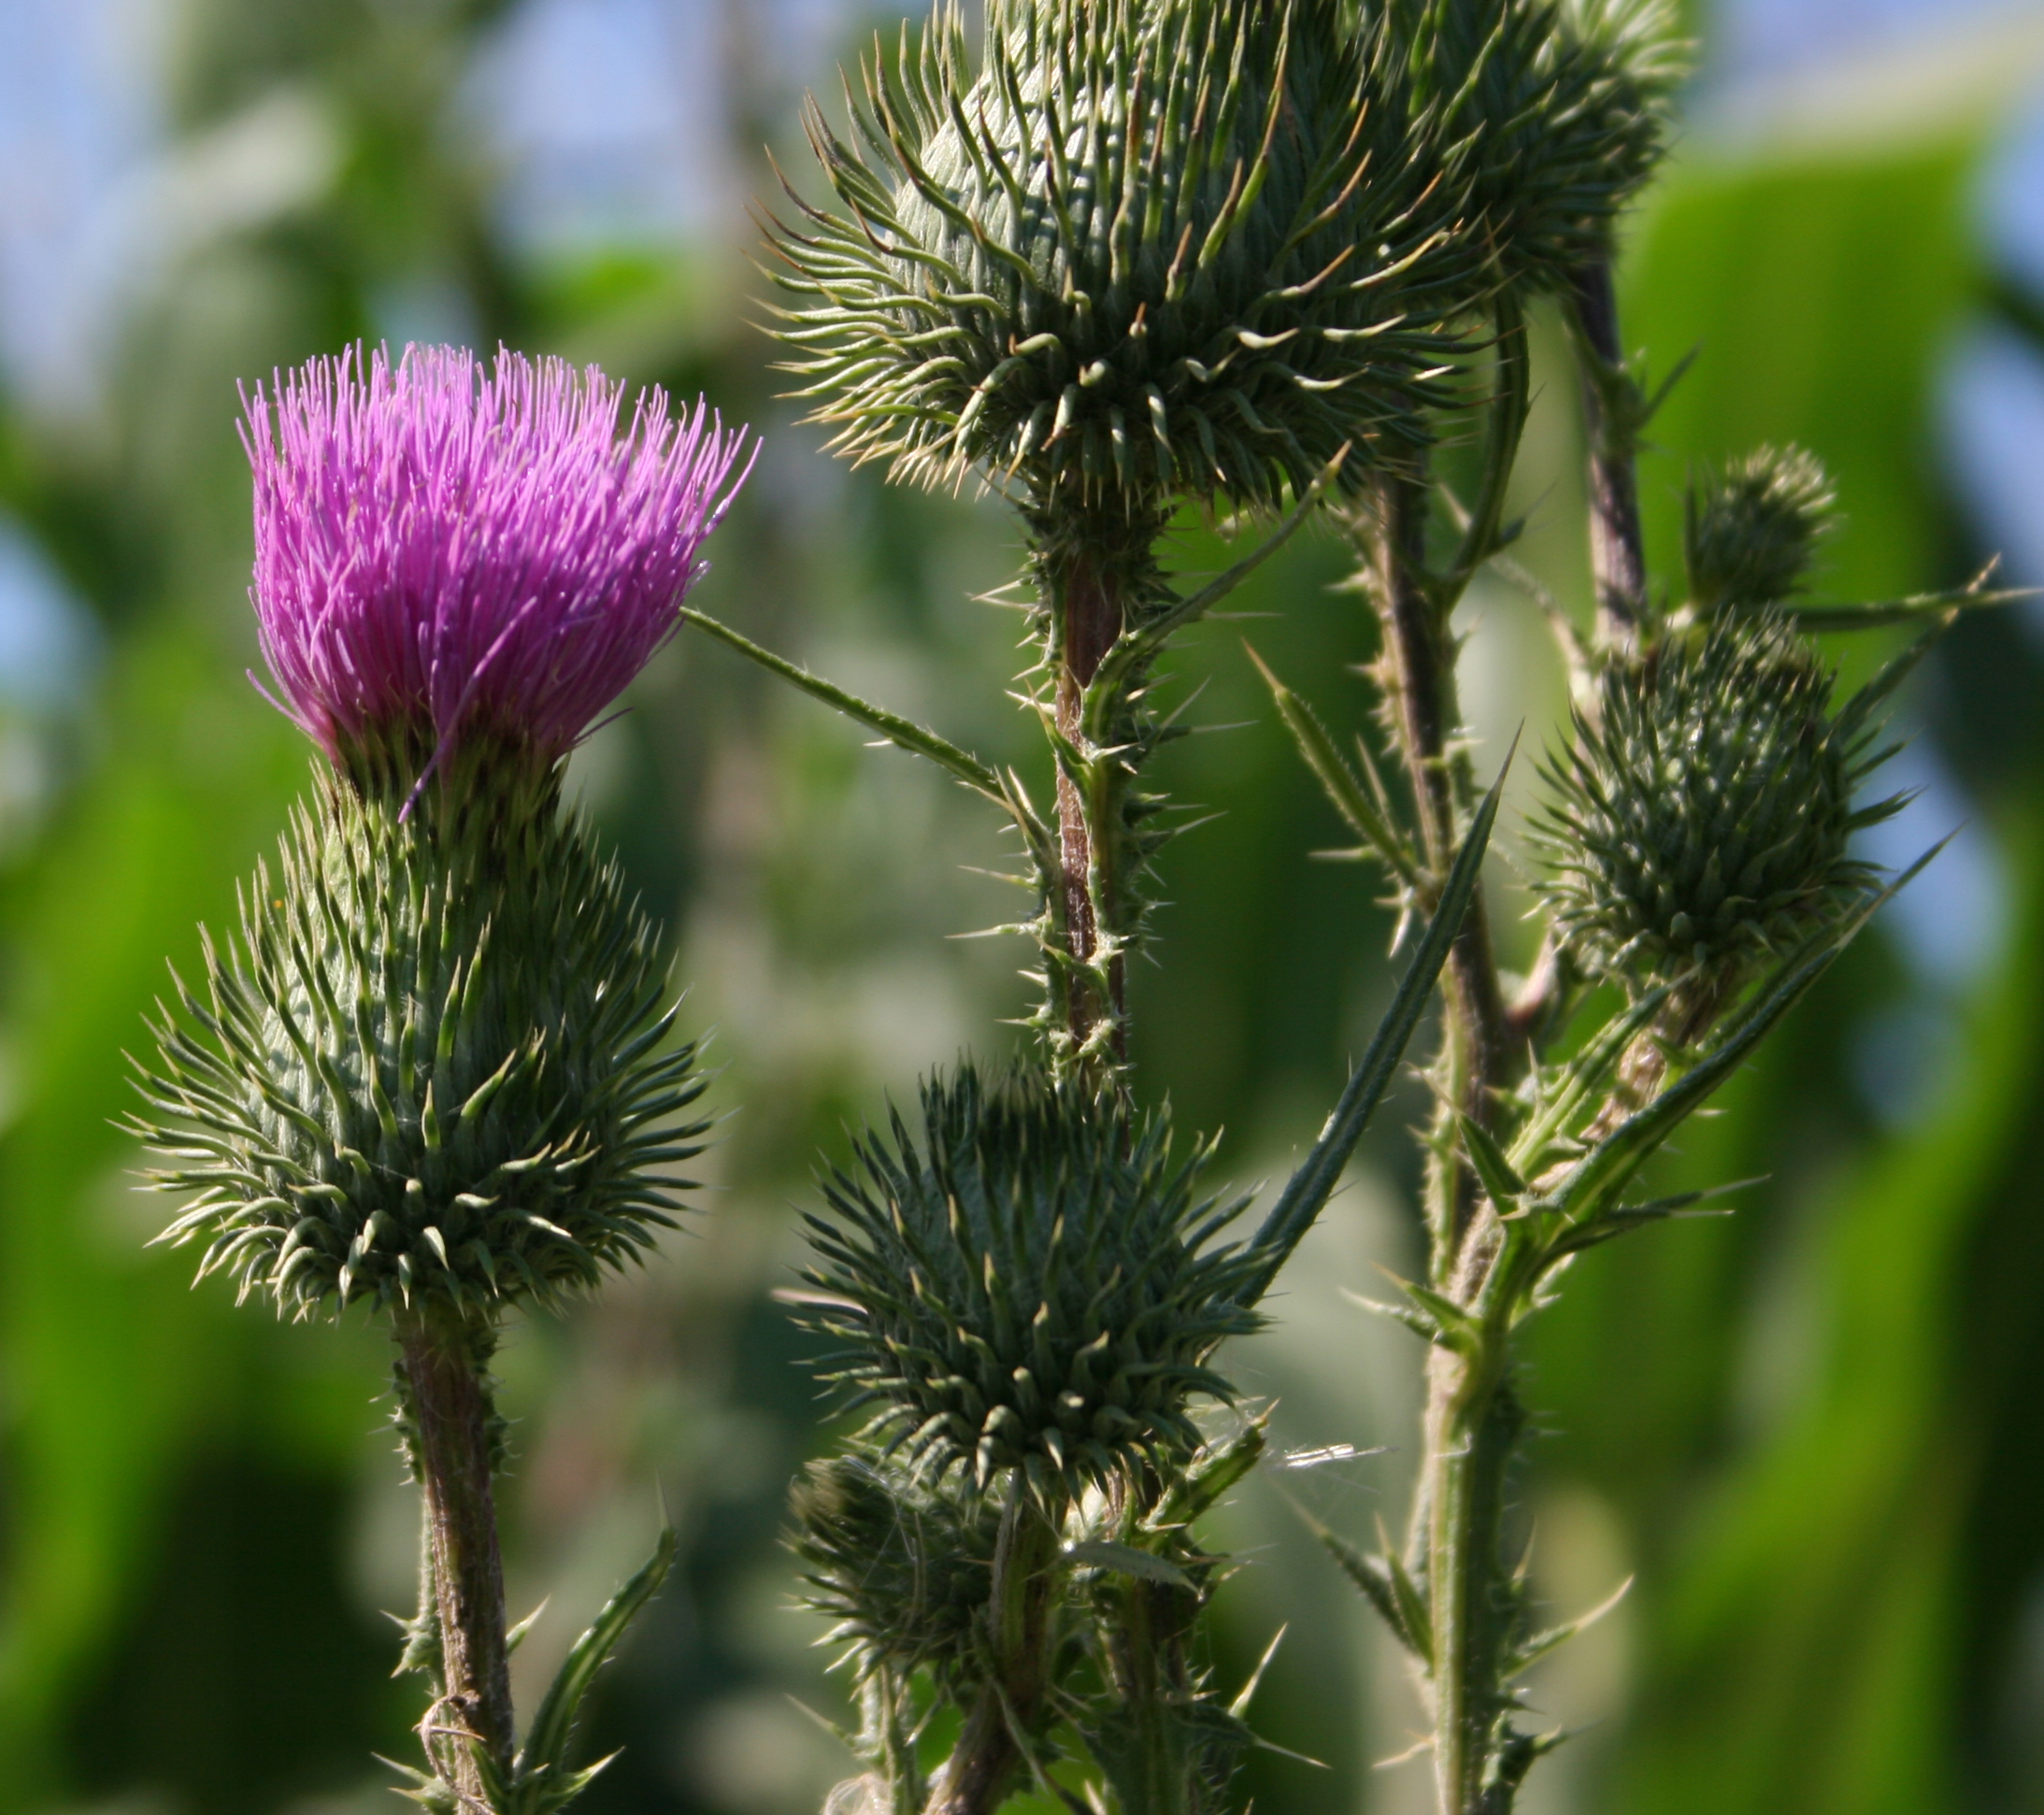thistle: (166, 350, 755, 1345)
